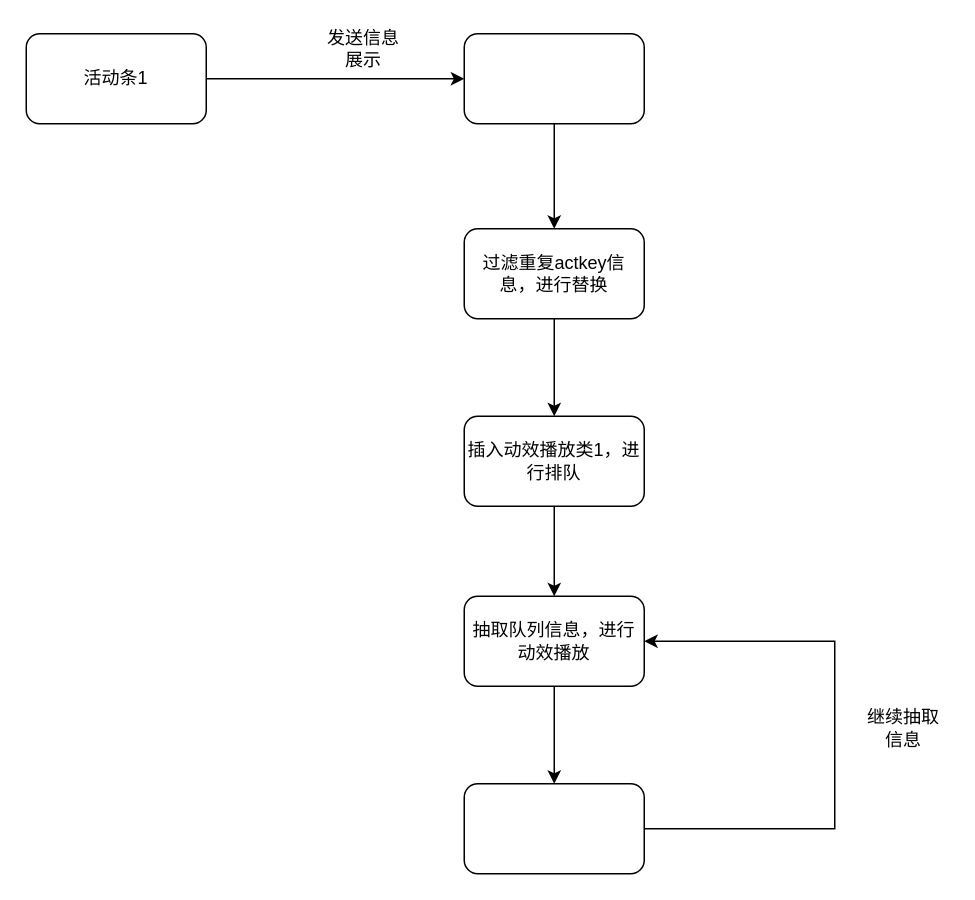
Some shapes in this 975 by 900 pixel diagram are drawn without their labels. Each missing label, with the box of its shape:
动效播放类1: (463, 782, 644, 874)
活动管理器: (463, 32, 644, 124)
